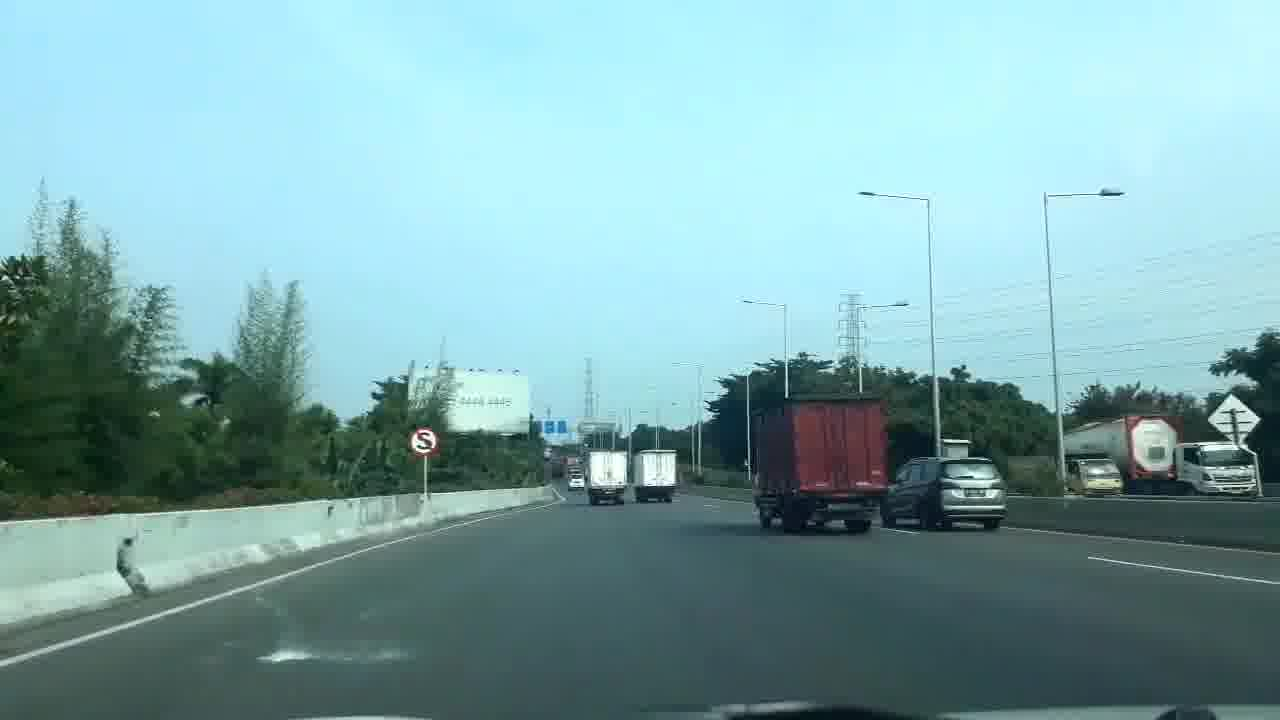plate_positive: (827, 503, 864, 512), (965, 488, 986, 497)
